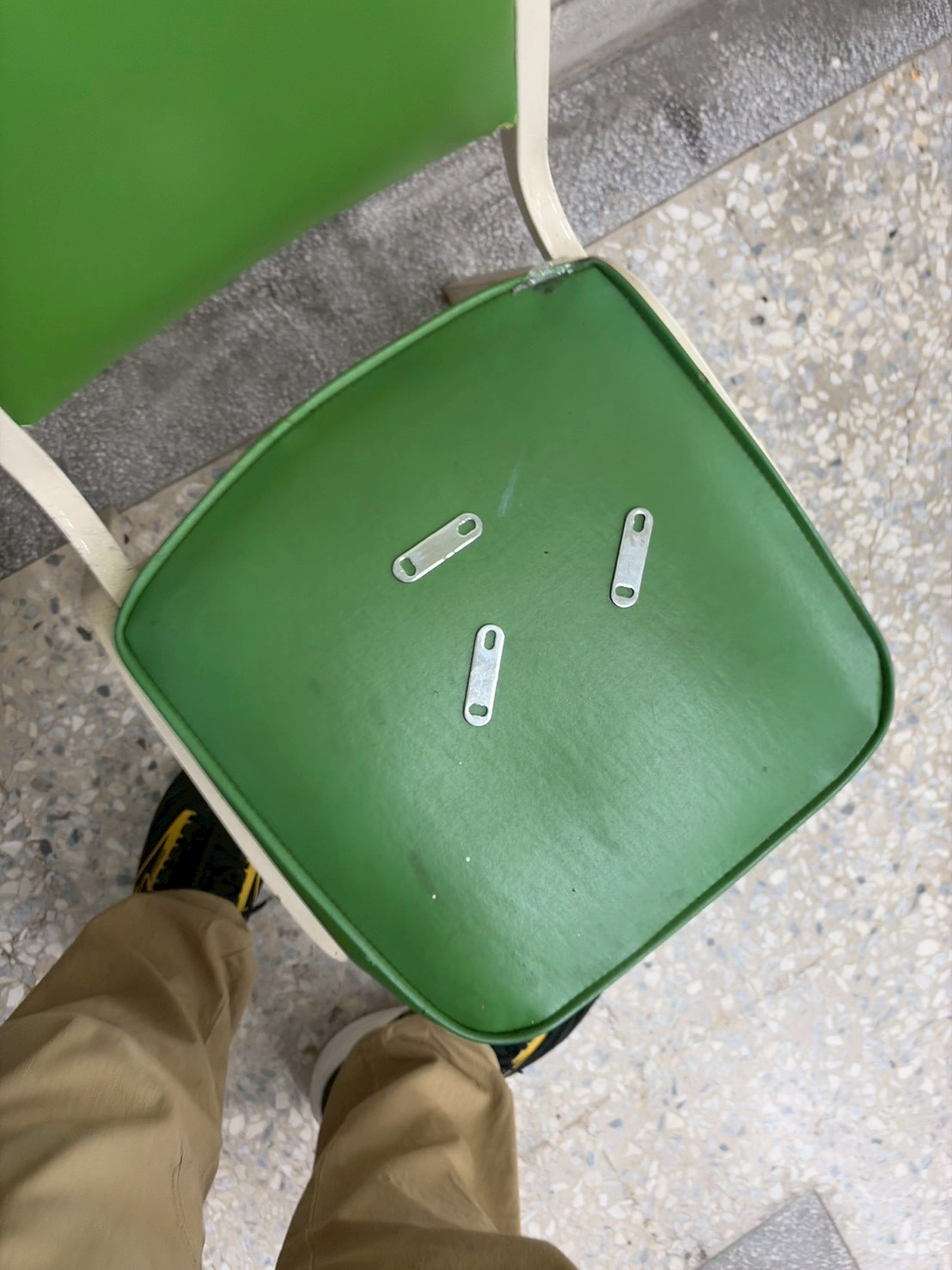Fe: (382, 512, 499, 581), (598, 507, 669, 608), (453, 625, 513, 730)
